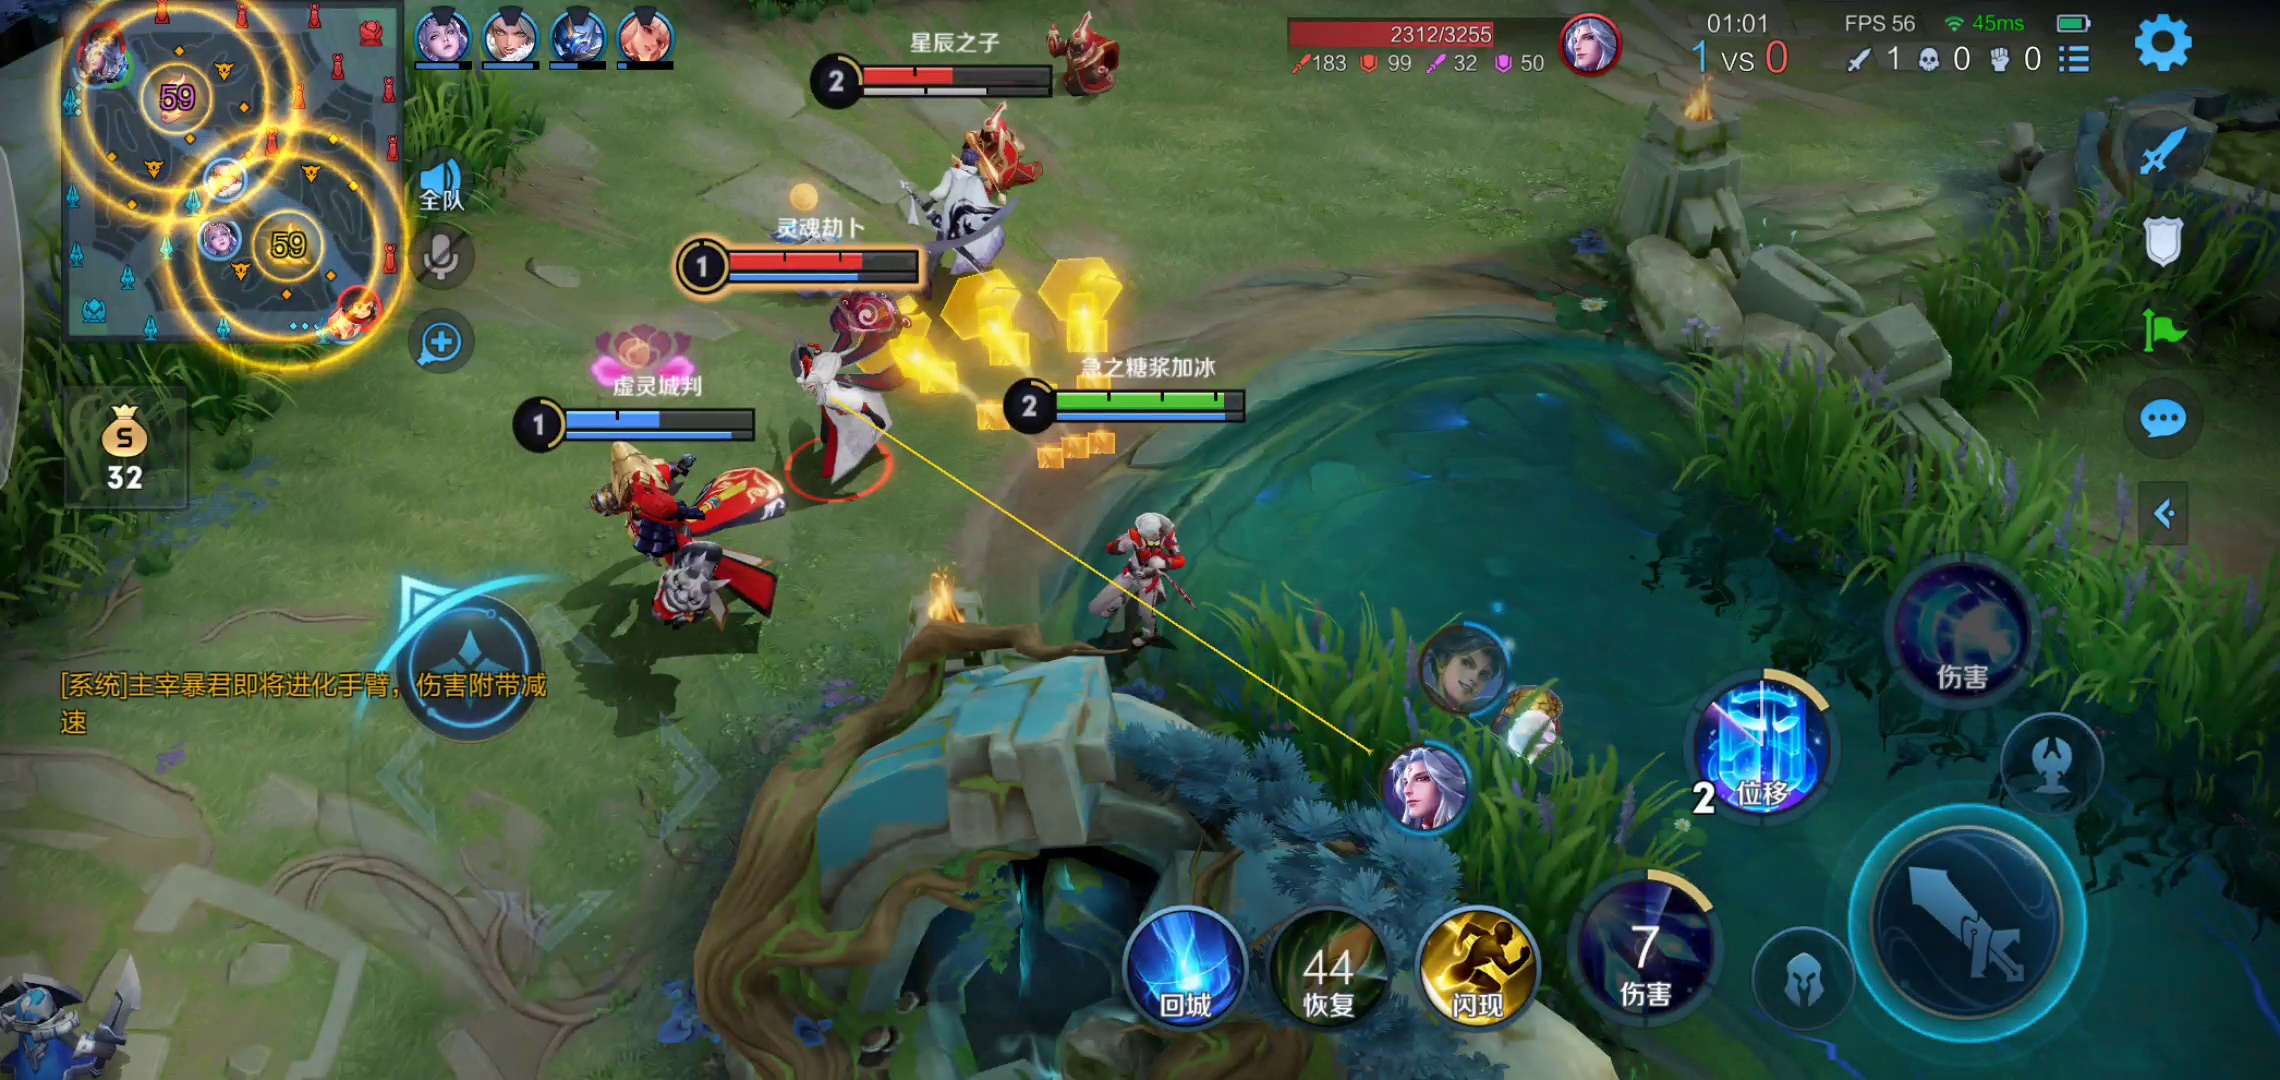grass: (1668, 339, 2279, 781), (9, 84, 507, 619), (1223, 583, 1679, 984), (1911, 166, 2273, 401)
hero: (558, 443, 803, 651), (778, 336, 920, 512), (1077, 507, 1195, 664), (896, 145, 1011, 286)
soldier: (15, 977, 125, 1080), (1032, 3, 1139, 105)
